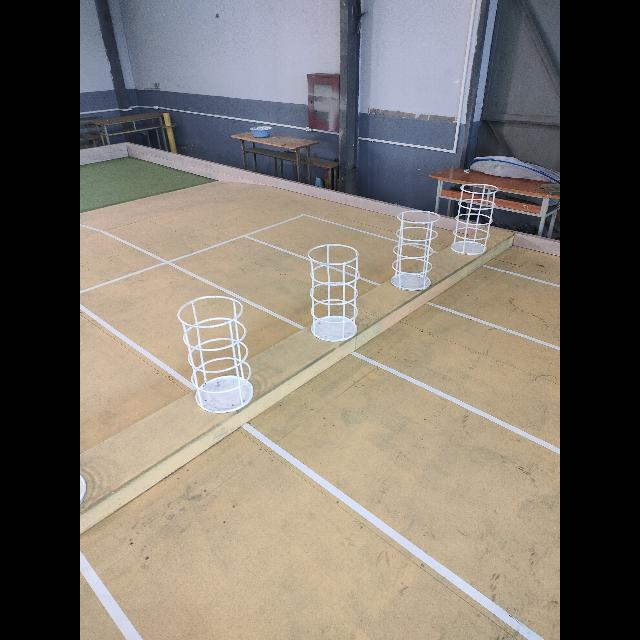S: (178, 296, 254, 415), (307, 243, 360, 342), (392, 211, 441, 292), (450, 184, 499, 255)
